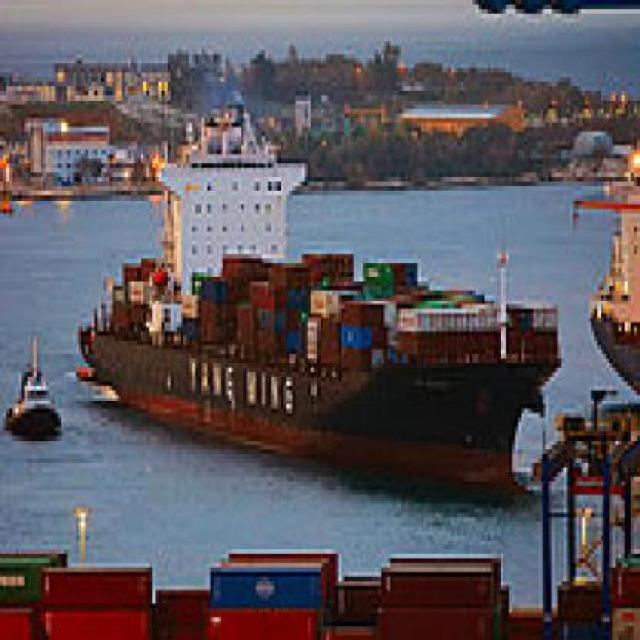container: (62, 96, 568, 523)
